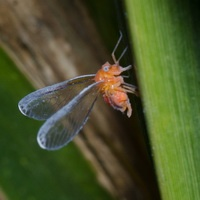insect: (18, 32, 135, 149)
